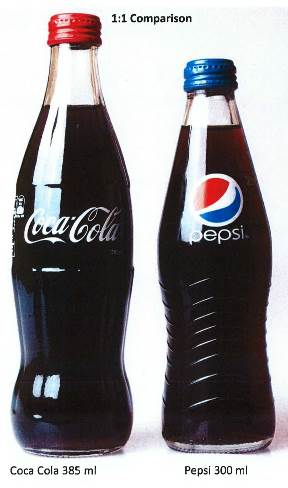pepsi: (186, 170, 242, 225), (188, 170, 242, 225)
